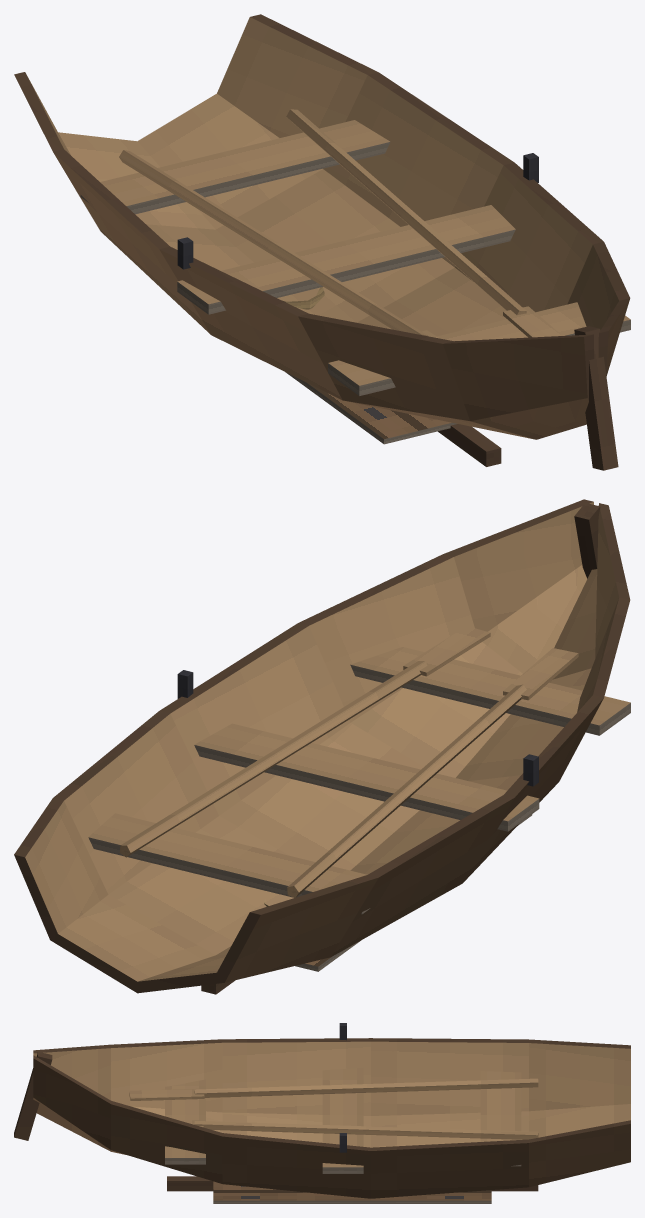
File: rowboat.glb
The picture shows the model from 3 angles, top to bottom: view 1: azimuth 30°, elevation 25°; view 2: azimuth 150°, elevation 25°; view 3: azimuth 270°, elevation 25°; orthographic projection. The views are drawn at different scales.
Visible parts, largest first — view 1: rowboat.001; view 2: rowboat.001; view 3: rowboat.001.
Boxes of the visible parts, left/top/right/bottom form: rowboat.001: left=14, top=14, right=630, bottom=470; rowboat.001: left=14, top=499, right=630, bottom=994; rowboat.001: left=14, top=1023, right=630, bottom=1203.
Bounding box in the file's own units: 1.44 × 0.8018 × 3.32.
Materials: 1 (1 with a texture image).
